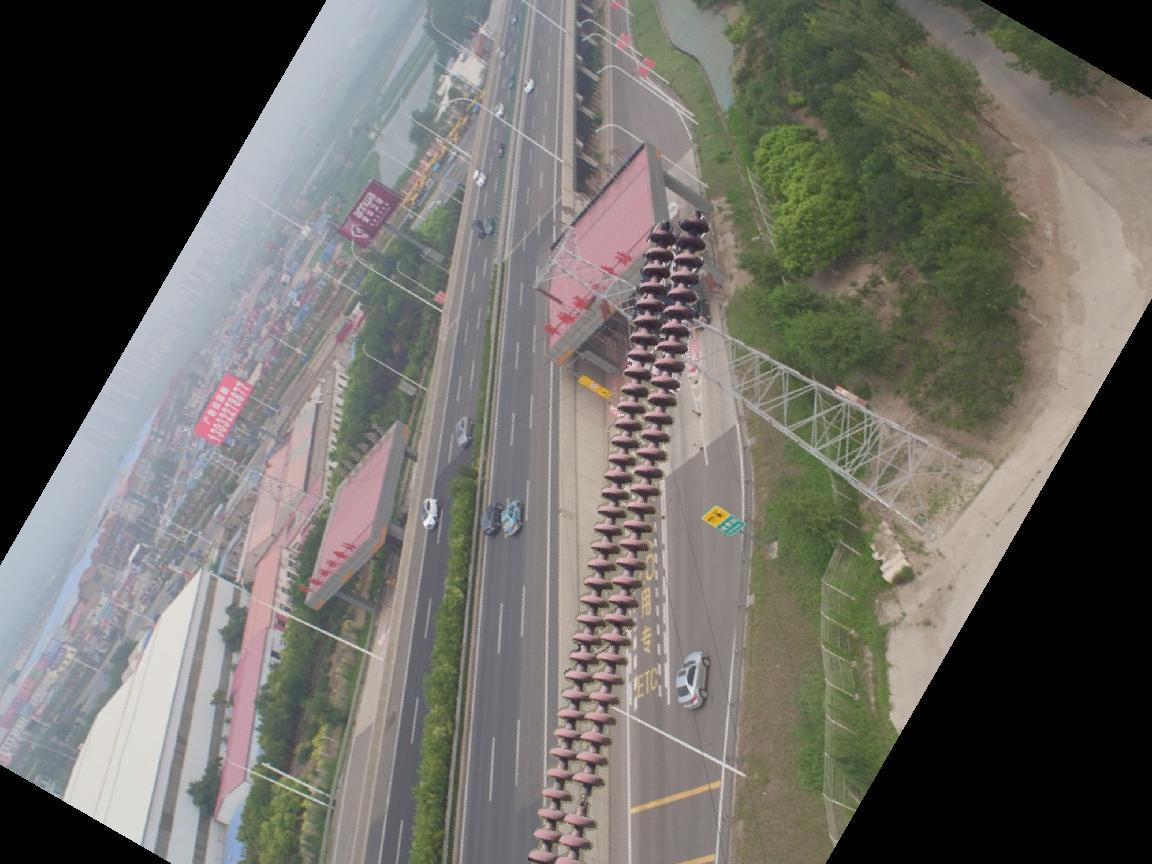insulator: (523, 209, 711, 864)
insulator_stringdrop: (560, 767, 609, 836)
